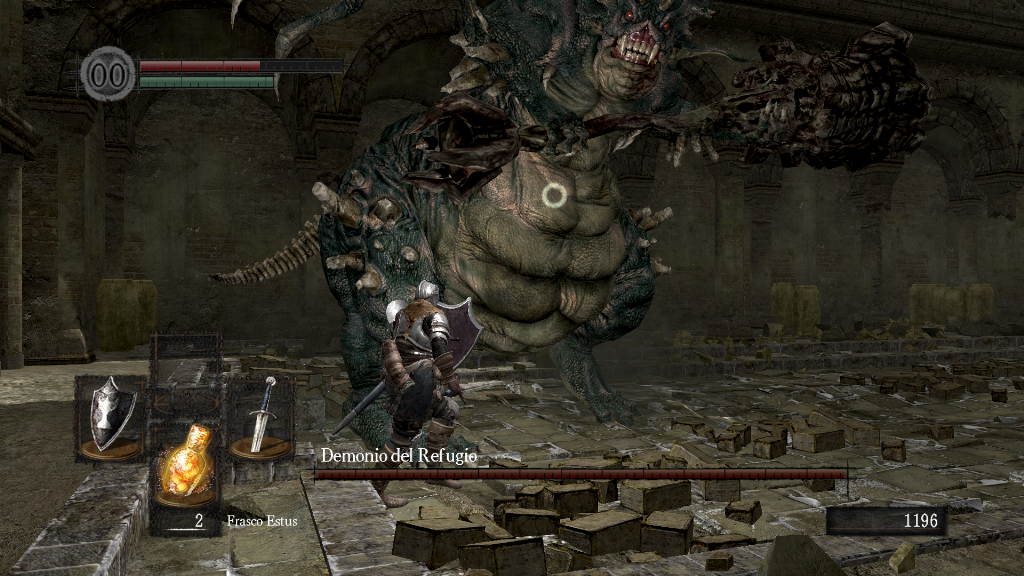asylumDemon: (208, 5, 940, 465)
bossHP: (314, 469, 847, 479)
health: (138, 58, 343, 71)
humanity: (80, 45, 136, 102)
player: (370, 280, 487, 507)
souls: (825, 506, 945, 536)
stamina: (138, 74, 274, 88)
